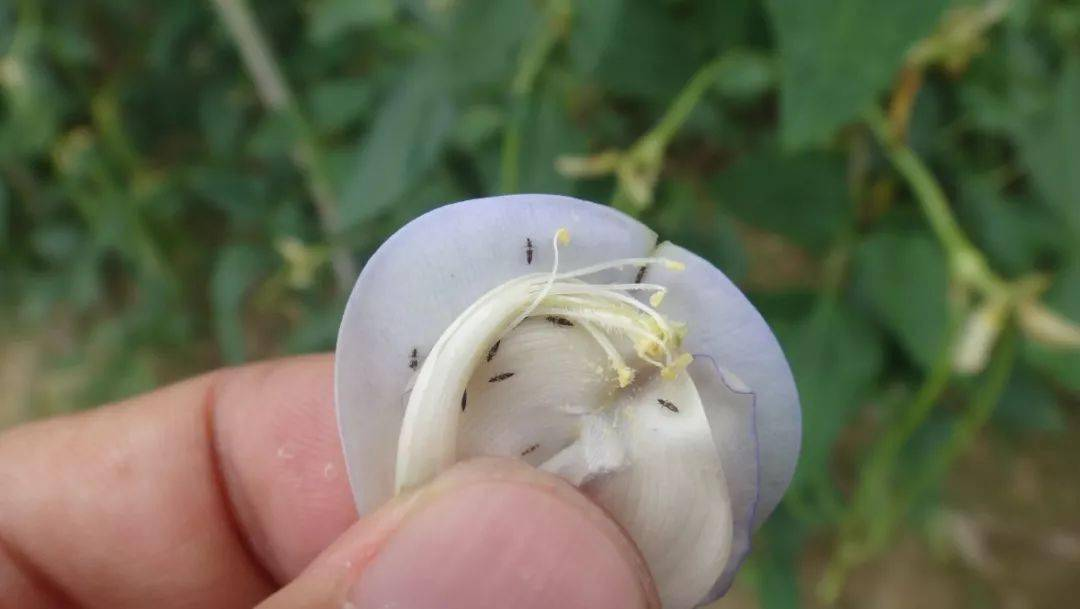thrips: (522, 235, 538, 269), (544, 313, 574, 328), (657, 396, 680, 415), (484, 337, 500, 363), (487, 369, 516, 382)
